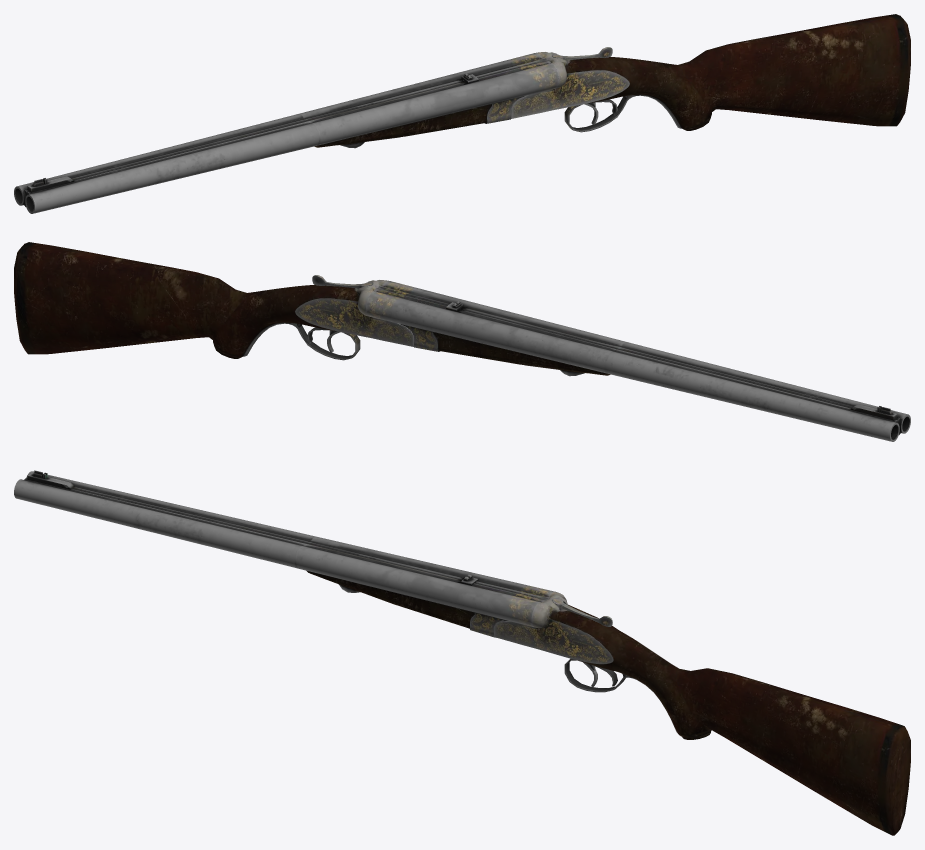
Rendered from olympus.glb.
3 renders of one model, top to bottom at view 1: azimuth 30°, elevation 25°; view 2: azimuth 150°, elevation 25°; view 3: azimuth 330°, elevation 25°, orthographic.
Parts seen in each view (by area): view 1: Object_2; view 2: Object_2; view 3: Object_2.
Part boxes in pixels (box(x1,y1,x2,y2)): Object_2: box(14, 14, 910, 213); Object_2: box(14, 242, 910, 441); Object_2: box(14, 470, 910, 835).
Size of the model in its own units: 4.83 by 0.8142 by 0.2573.
1 material, 1 textured.
